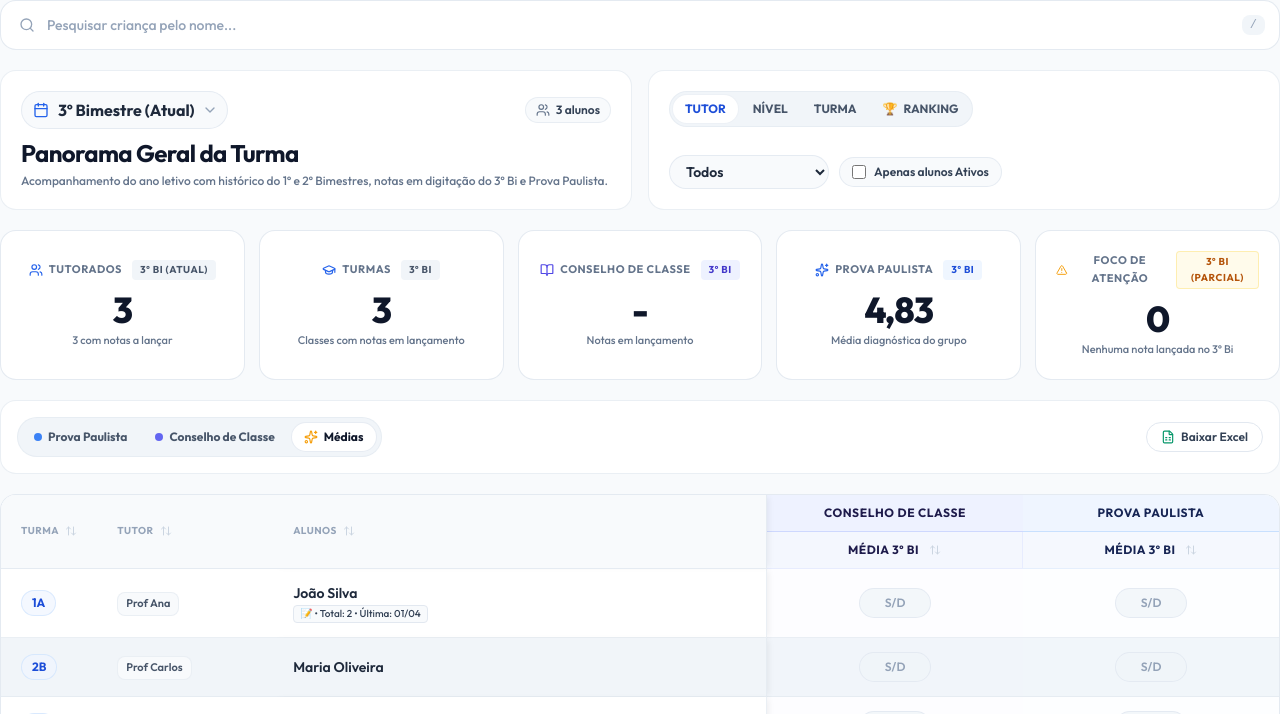
Test: Dashboard — Botões de Visão: Prova Paulista, Conselho de Classe e Médias › esconde o ranking completamente por padrão e só exibe após clicar no botão RANKING
The image size is (1280, 714).
Expected: the text "Top 5" is not shown
Clica no botão de RANKING na barra de abas
Click the button "🏆 RANKING" at x=920, y=109, box [870, 94, 970, 124]
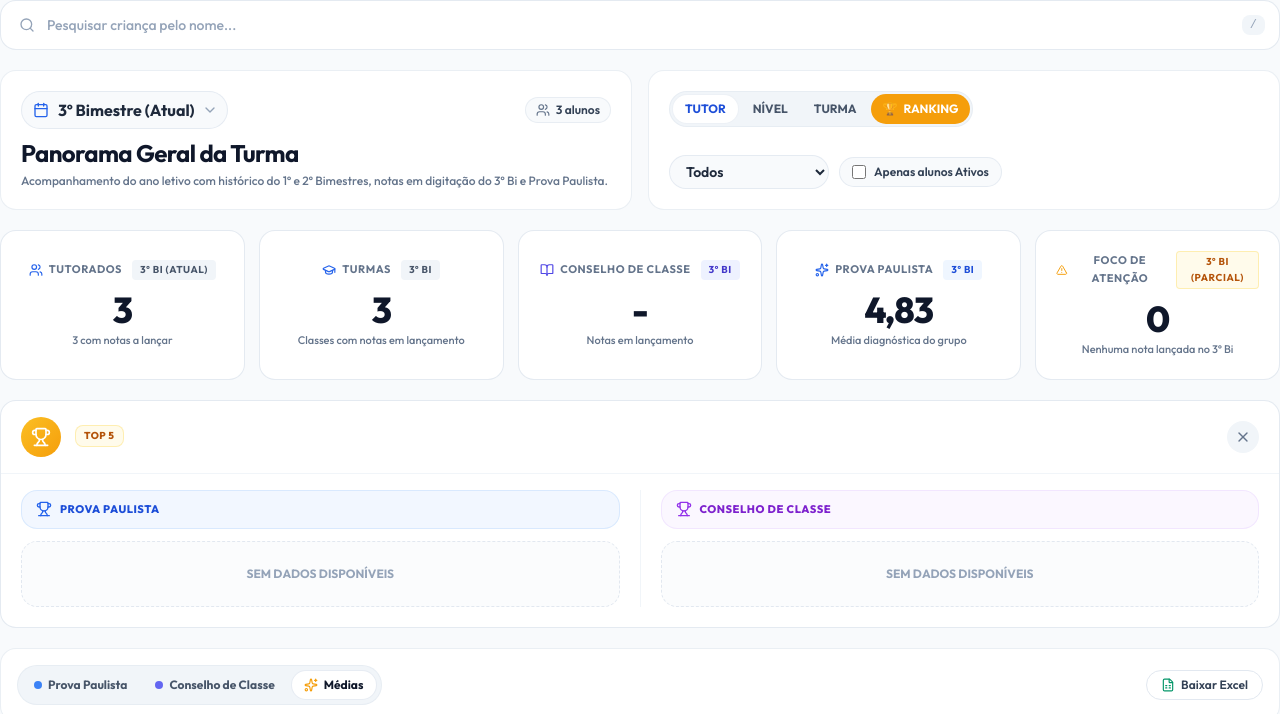
Now the text "Top 5" is shown, box [75, 425, 124, 447]
Clica no botão de fechar do ranking ou no botão de RANKING novamente para fechar
Click the button titled "fechar ranking" at x=1243, y=437, box [1227, 421, 1259, 453]
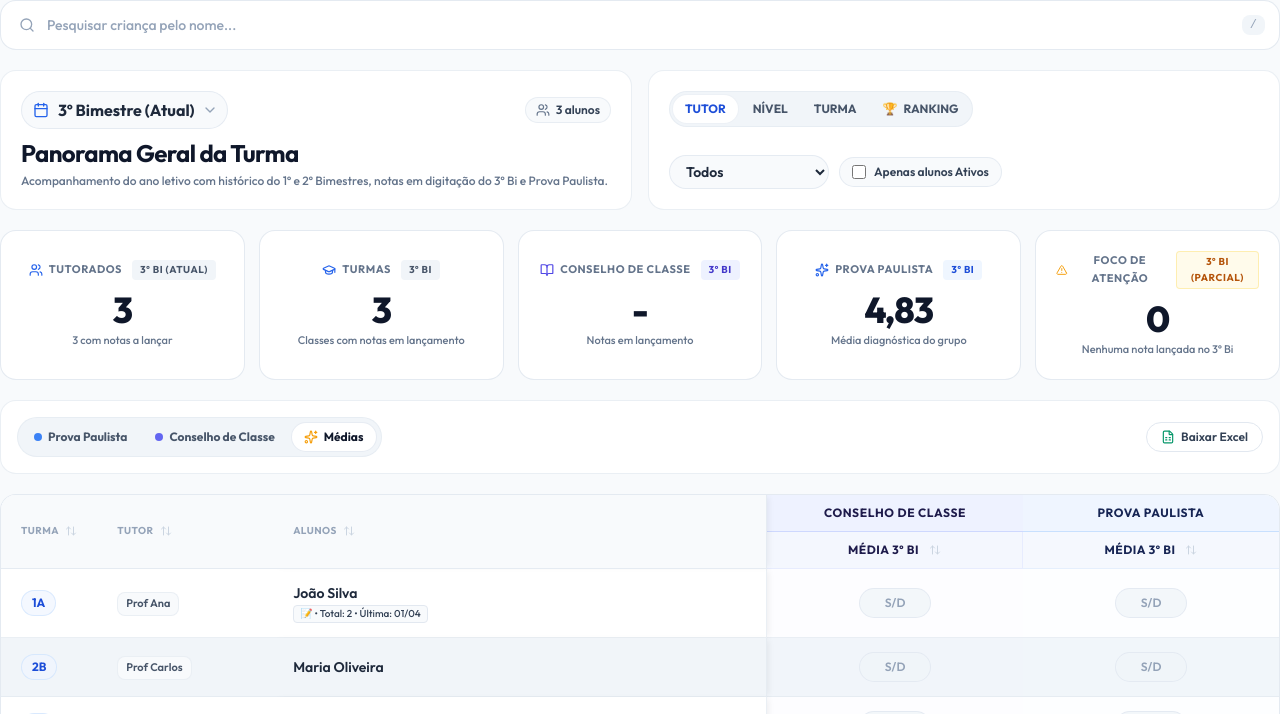
Now the text "Top 5" is gone
